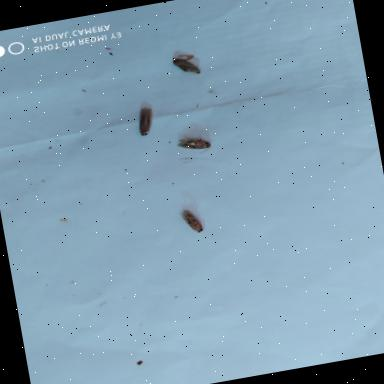pbw: (170, 129, 214, 162), (174, 204, 210, 238), (128, 104, 160, 140), (169, 51, 205, 82)
